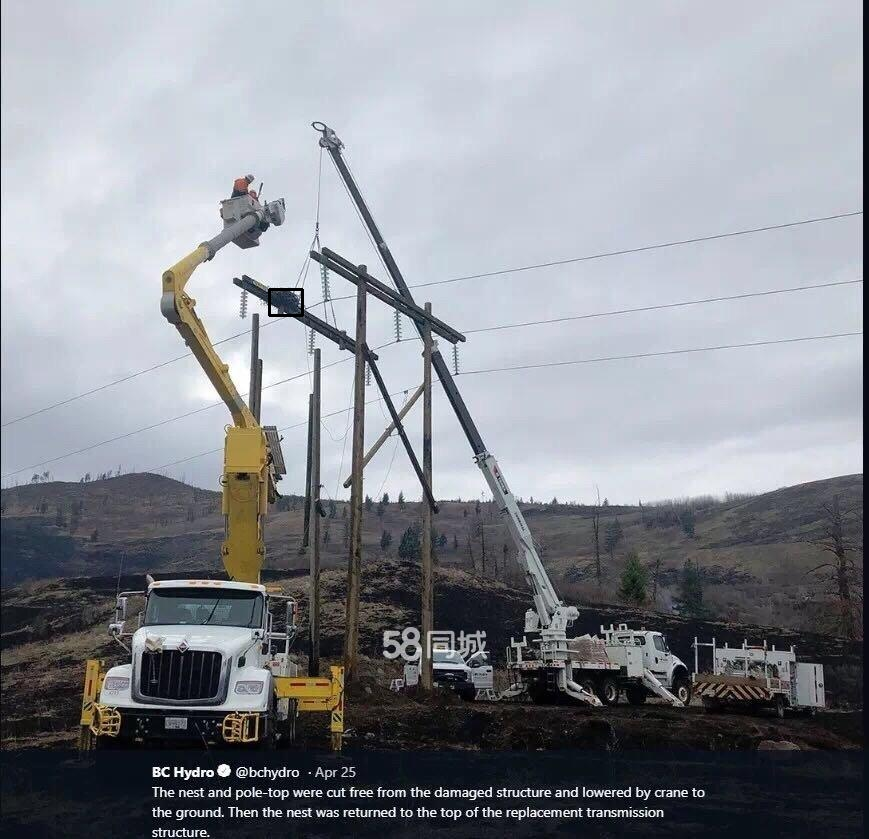bird-nest: (273, 286, 303, 303)
